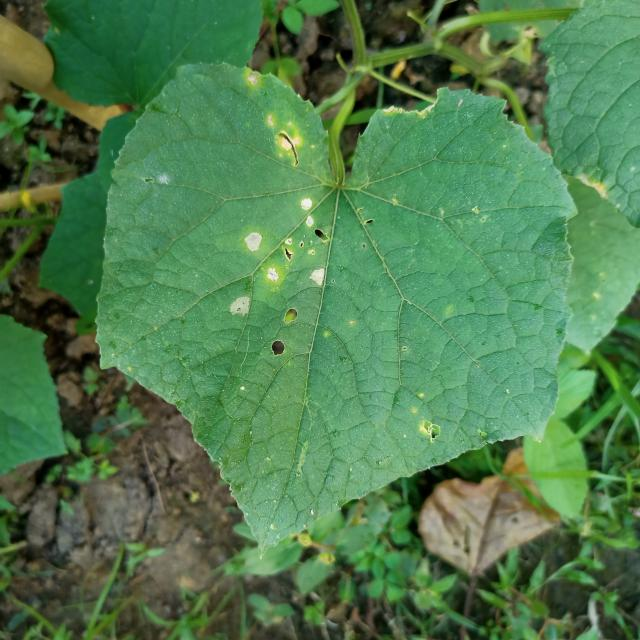disease_cucumber: (216, 177, 351, 333)
